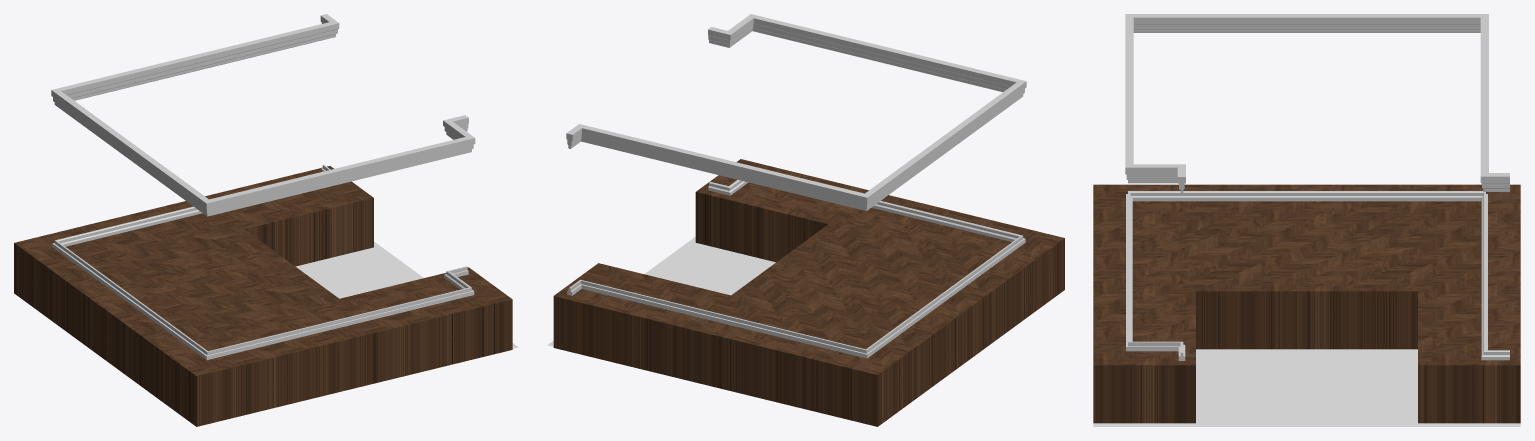
Rendered from book_wall_top.fbx.
3 renders of one model, left to right at view 1: azimuth 30°, elevation 25°; view 2: azimuth 150°, elevation 25°; view 3: azimuth 270°, elevation 25°, orthographic. The views are drawn at different scales.
Parts seen in each view (by area): view 1: Floor.001, Bookshelf top and base.003; view 2: Floor.001, Bookshelf top and base.003; view 3: Floor.001, Bookshelf top and base.003.
Part boxes in pixels (box(x1,y1,x2,y2)): Floor.001: box(14, 166, 518, 426); Bookshelf top and base.003: box(51, 14, 475, 359); Floor.001: box(547, 159, 1064, 426); Bookshelf top and base.003: box(566, 14, 1026, 358); Floor.001: box(1093, 184, 1520, 426); Bookshelf top and base.003: box(1125, 14, 1509, 360).
Bounding box in the file's own units: 1020 × 628 × 1000.
